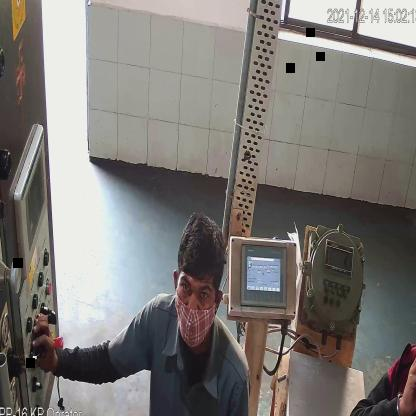no_goggles: (179, 277, 215, 312)
